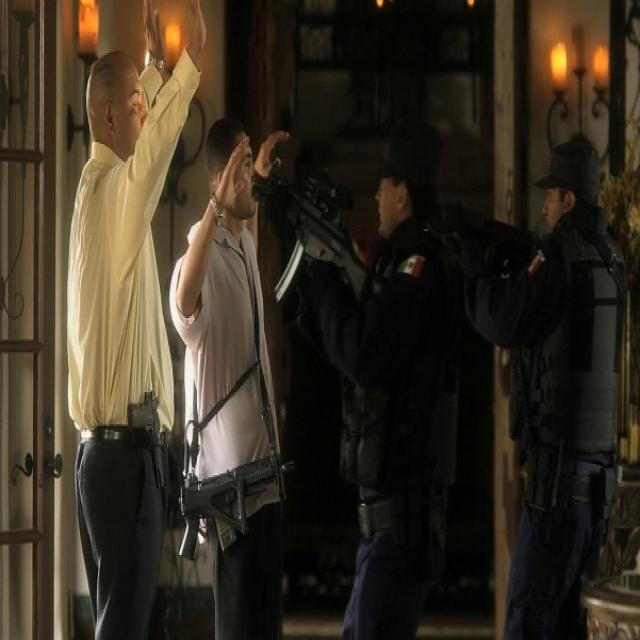rifle: (248, 163, 375, 303), (177, 446, 303, 570)
